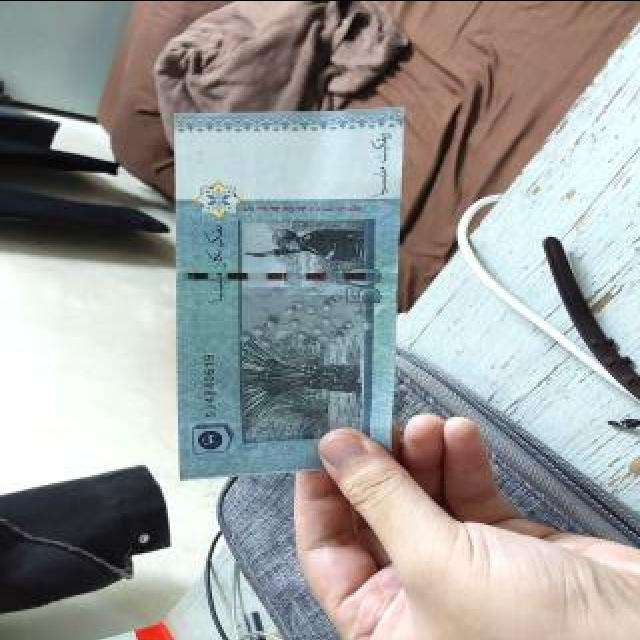50 Ringgit: (170, 99, 411, 488)
